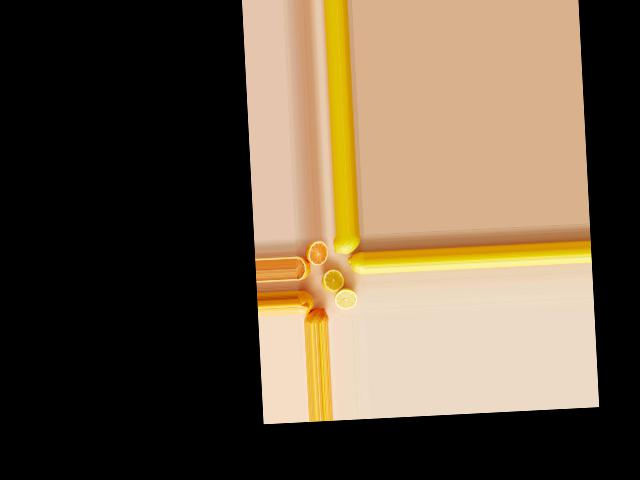lemon: (301, 304, 330, 324)
